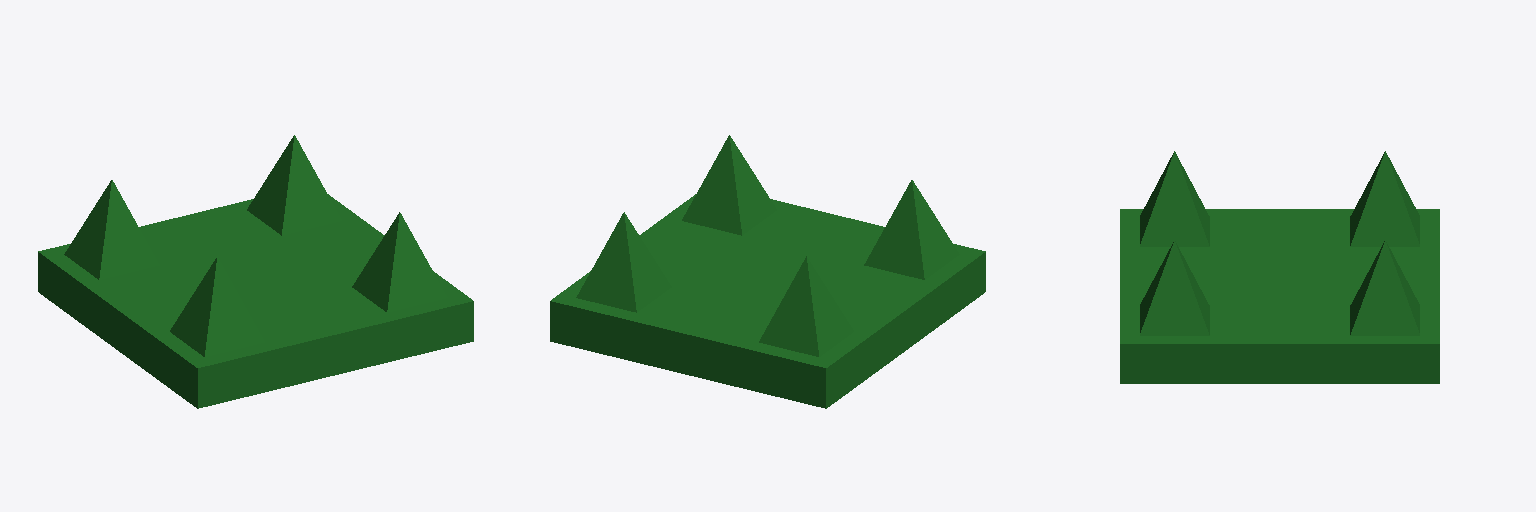
File: terrain-forest.obj
3 renders of one model, left to right at view 1: azimuth 30°, elevation 25°; view 2: azimuth 150°, elevation 25°; view 3: azimuth 270°, elevation 25°, orthographic.
Visible parts, largest first — view 1: Forest; view 2: Forest; view 3: Forest.
Boxes of the visible parts, x1=… form: Forest: x1=38, y1=135, x2=473, y2=408; Forest: x1=550, y1=135, x2=985, y2=408; Forest: x1=1120, y1=151, x2=1439, y2=383.
Size of the model in its own units: 1 by 0.42 by 1.